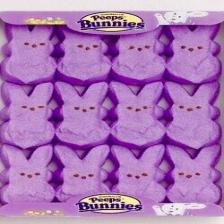purple: (4, 10, 224, 198)
